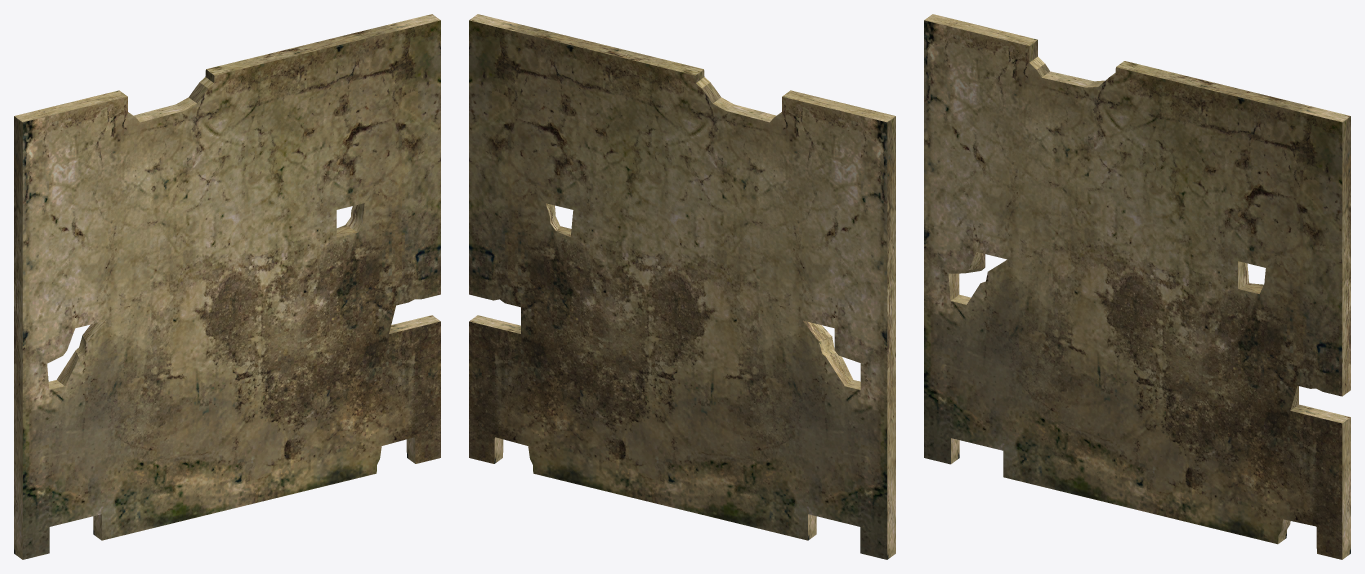
File: DestroyableWalls_512x512.obj
3 renders of one model, left to right at view 1: azimuth 30°, elevation 25°; view 2: azimuth 150°, elevation 25°; view 3: azimuth 330°, elevation 25°, orthographic.
Parts seen in each view (by area): view 1: fx_DestroyableWalls_512x512_FRACTURED; view 2: fx_DestroyableWalls_512x512_FRACTURED; view 3: fx_DestroyableWalls_512x512_FRACTURED.
Part boxes in pixels (bbox=[...]): fx_DestroyableWalls_512x512_FRACTURED: bbox=[14, 14, 440, 559]; fx_DestroyableWalls_512x512_FRACTURED: bbox=[469, 14, 895, 559]; fx_DestroyableWalls_512x512_FRACTURED: bbox=[924, 14, 1350, 559].
Size of the model in its own units: 512 by 512 by 18.38.
Materials: 2 (2 with a texture image).
